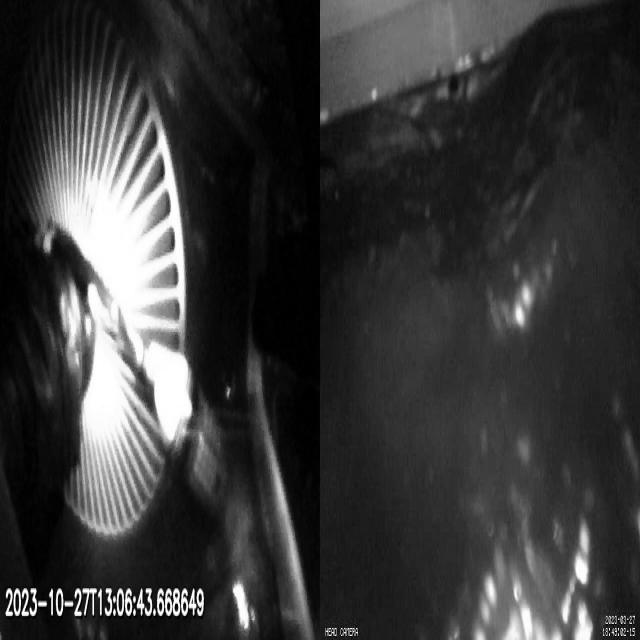head: (155, 345, 226, 503)
